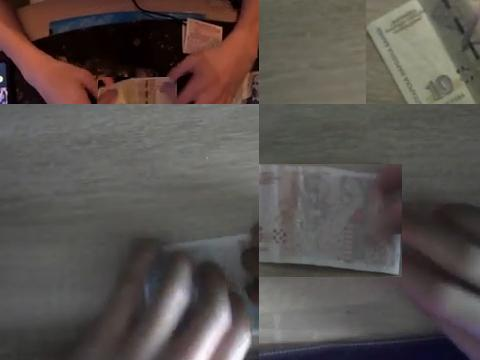50leva: (105, 77, 168, 104)
5leva: (259, 164, 402, 277)
